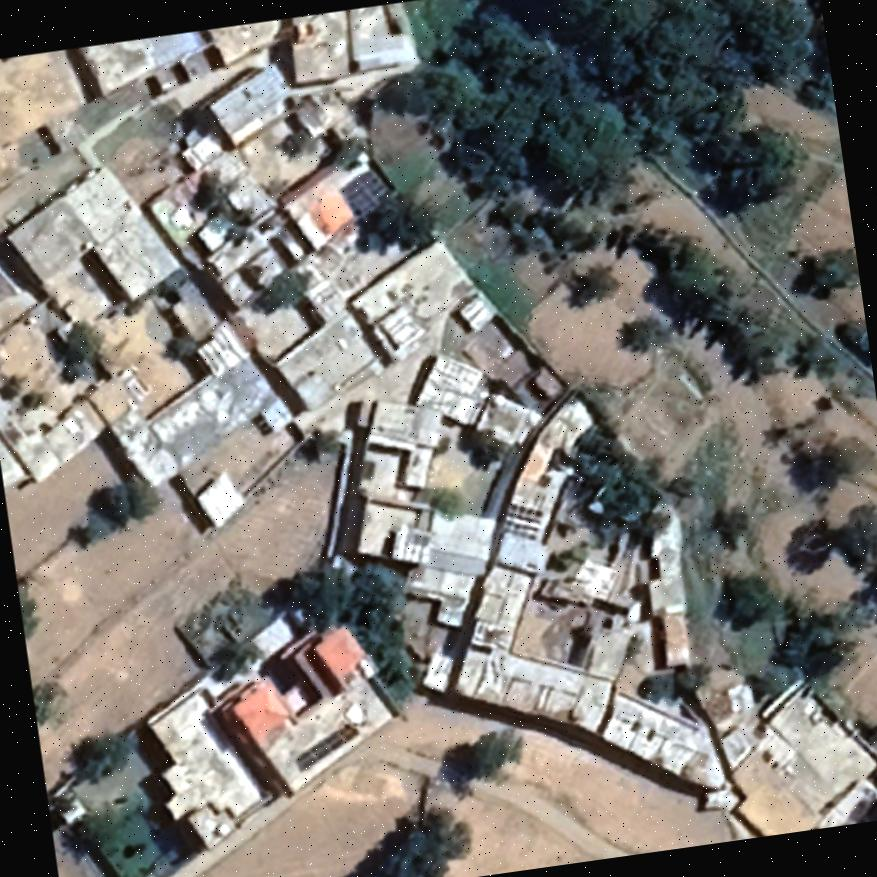Solarpanel: (287, 721, 362, 776), (334, 164, 392, 222)
